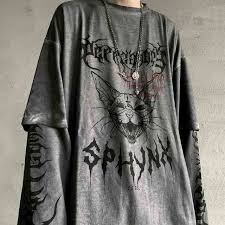cat: (85, 69, 169, 148)
